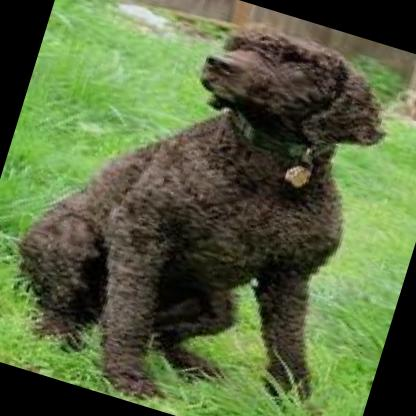Irish_water_spaniel: (0, 0, 411, 416)
